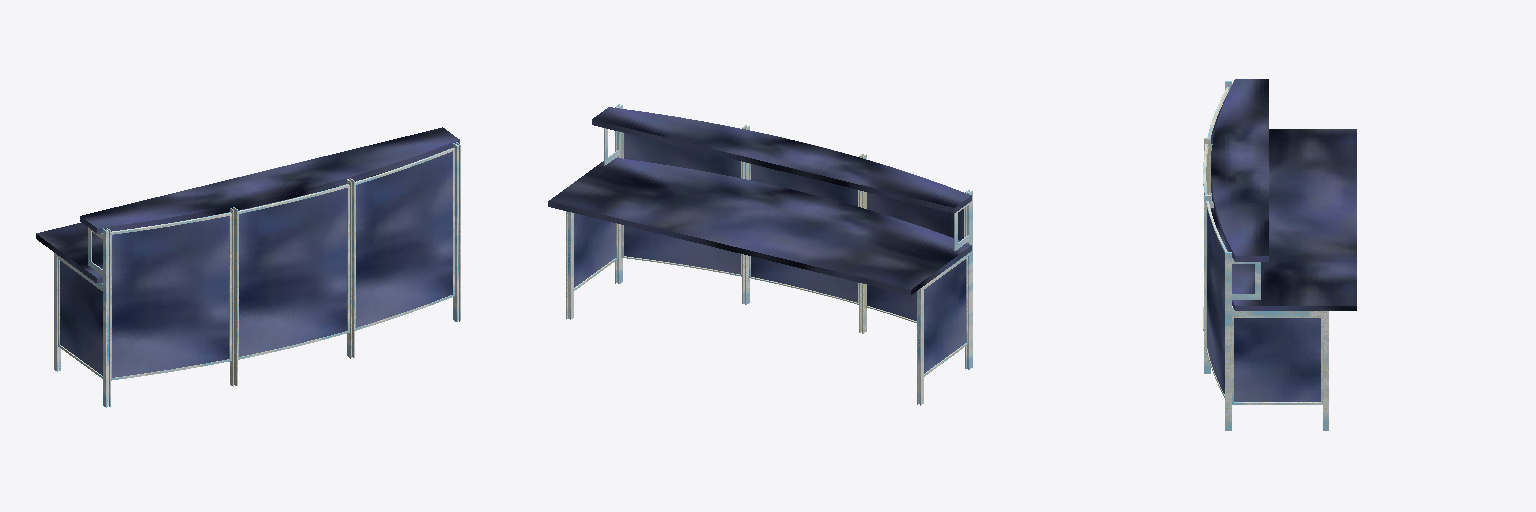
The picture shows the model from 3 angles: view 1: azimuth 30°, elevation 25°; view 2: azimuth 150°, elevation 25°; view 3: azimuth 270°, elevation 25°; orthographic projection.
Parts seen in each view (by area): view 1: mesh8_mesh8-geometry, mesh15_mesh15-geometry, mesh19_mesh19-geometry, mesh1_mesh1-geometry, mesh16_mesh16-geometry, mesh11_mesh11-geometry, mesh17_mesh17-geometry, mesh12_mesh12-geometry, mesh21_mesh21-geometry, mesh13_mesh13-geometry; view 2: mesh16_mesh16-geometry, mesh8_mesh8-geometry, mesh15_mesh15-geometry, mesh19_mesh19-geometry, mesh11_mesh11-geometry, mesh1_mesh1-geometry, mesh12_mesh12-geometry; view 3: mesh16_mesh16-geometry, mesh15_mesh15-geometry, mesh19_mesh19-geometry, mesh8_mesh8-geometry, mesh12_mesh12-geometry, mesh1_mesh1-geometry.
Boxes of the visible parts, box(x1,y1,x2,y2) form: mesh8_mesh8-geometry: box(112, 151, 452, 377); mesh15_mesh15-geometry: box(80, 127, 459, 233); mesh19_mesh19-geometry: box(58, 258, 102, 378); mesh1_mesh1-geometry: box(111, 148, 454, 380); mesh16_mesh16-geometry: box(36, 161, 416, 283); mesh11_mesh11-geometry: box(54, 143, 457, 407); mesh17_mesh17-geometry: box(340, 178, 354, 358); mesh12_mesh12-geometry: box(60, 142, 460, 406); mesh21_mesh21-geometry: box(233, 207, 237, 385); mesh13_mesh13-geometry: box(107, 144, 458, 406); mesh16_mesh16-geometry: box(548, 158, 971, 294); mesh8_mesh8-geometry: box(624, 133, 964, 320); mesh15_mesh15-geometry: box(592, 107, 971, 212); mesh19_mesh19-geometry: box(574, 213, 967, 376); mesh11_mesh11-geometry: box(570, 105, 972, 405); mesh1_mesh1-geometry: box(621, 132, 916, 322); mesh12_mesh12-geometry: box(566, 104, 969, 404); mesh16_mesh16-geometry: box(1211, 129, 1356, 310); mesh15_mesh15-geometry: box(1211, 79, 1268, 261); mesh19_mesh19-geometry: box(1232, 316, 1322, 404); mesh8_mesh8-geometry: box(1204, 91, 1228, 393); mesh12_mesh12-geometry: box(1225, 83, 1328, 430); mesh1_mesh1-geometry: box(1203, 87, 1228, 397).
Size of the model in its own units: 0.5664 by 0.2632 by 0.2079.
7 materials, 5 textured.